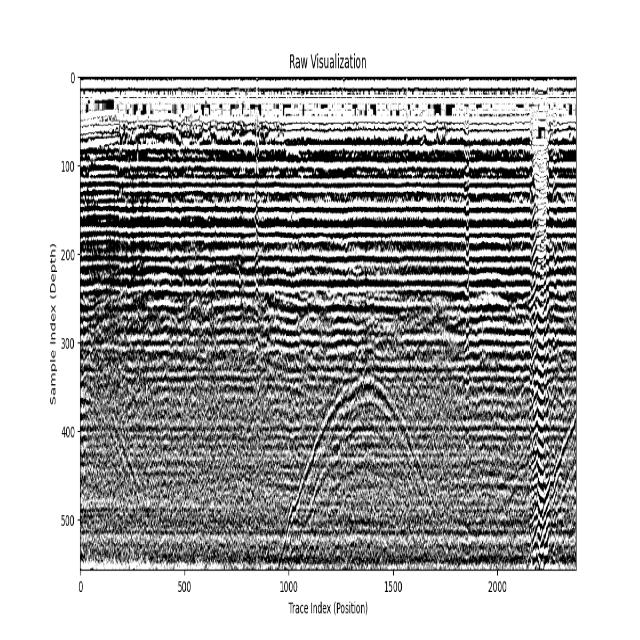anomaly: (275, 380, 454, 556), (84, 360, 149, 567), (525, 411, 574, 568)
